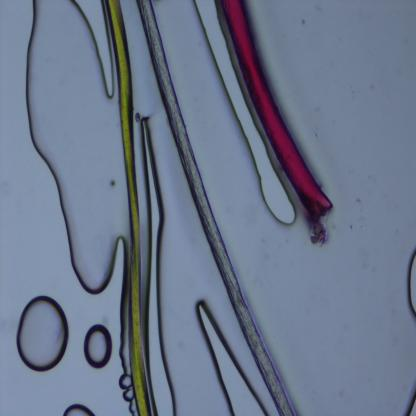Air bubble: (22, 0, 129, 293), (194, 0, 298, 226), (137, 116, 178, 414), (195, 300, 270, 415), (12, 294, 72, 374), (116, 330, 136, 414), (82, 323, 113, 372), (406, 247, 416, 320), (61, 401, 95, 416), (401, 385, 416, 415)
Microfibre: (138, 1, 294, 415), (221, 0, 332, 222), (103, 1, 152, 416)
